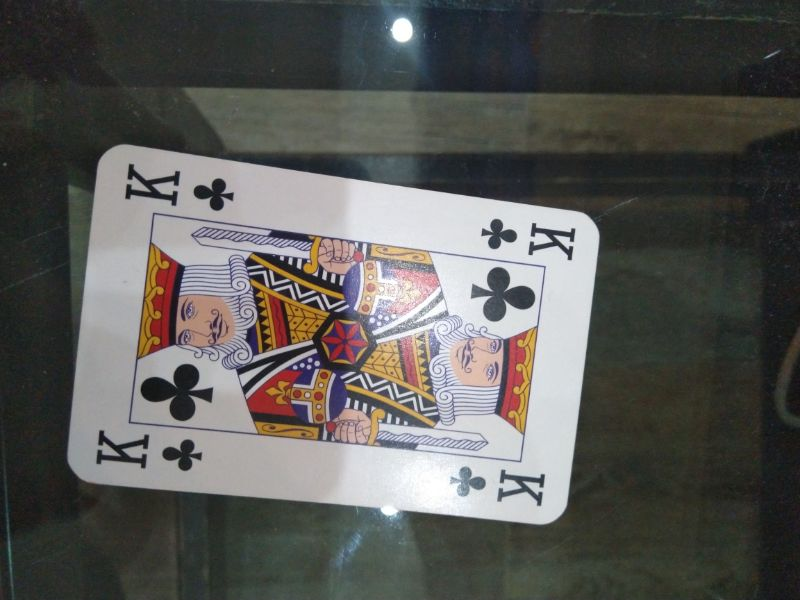Kc: (120, 158, 238, 219), (92, 424, 207, 477), (476, 212, 580, 269), (447, 458, 549, 513)
